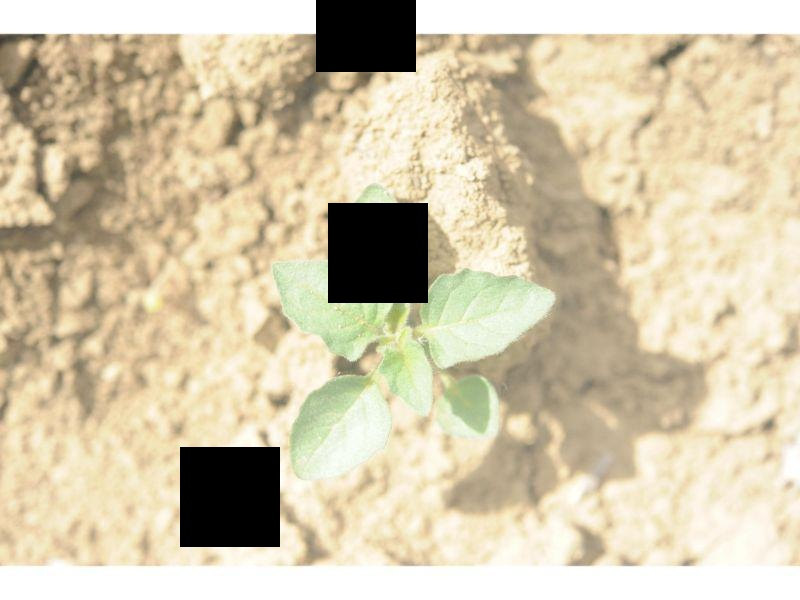nightshade: (270, 180, 556, 480)
